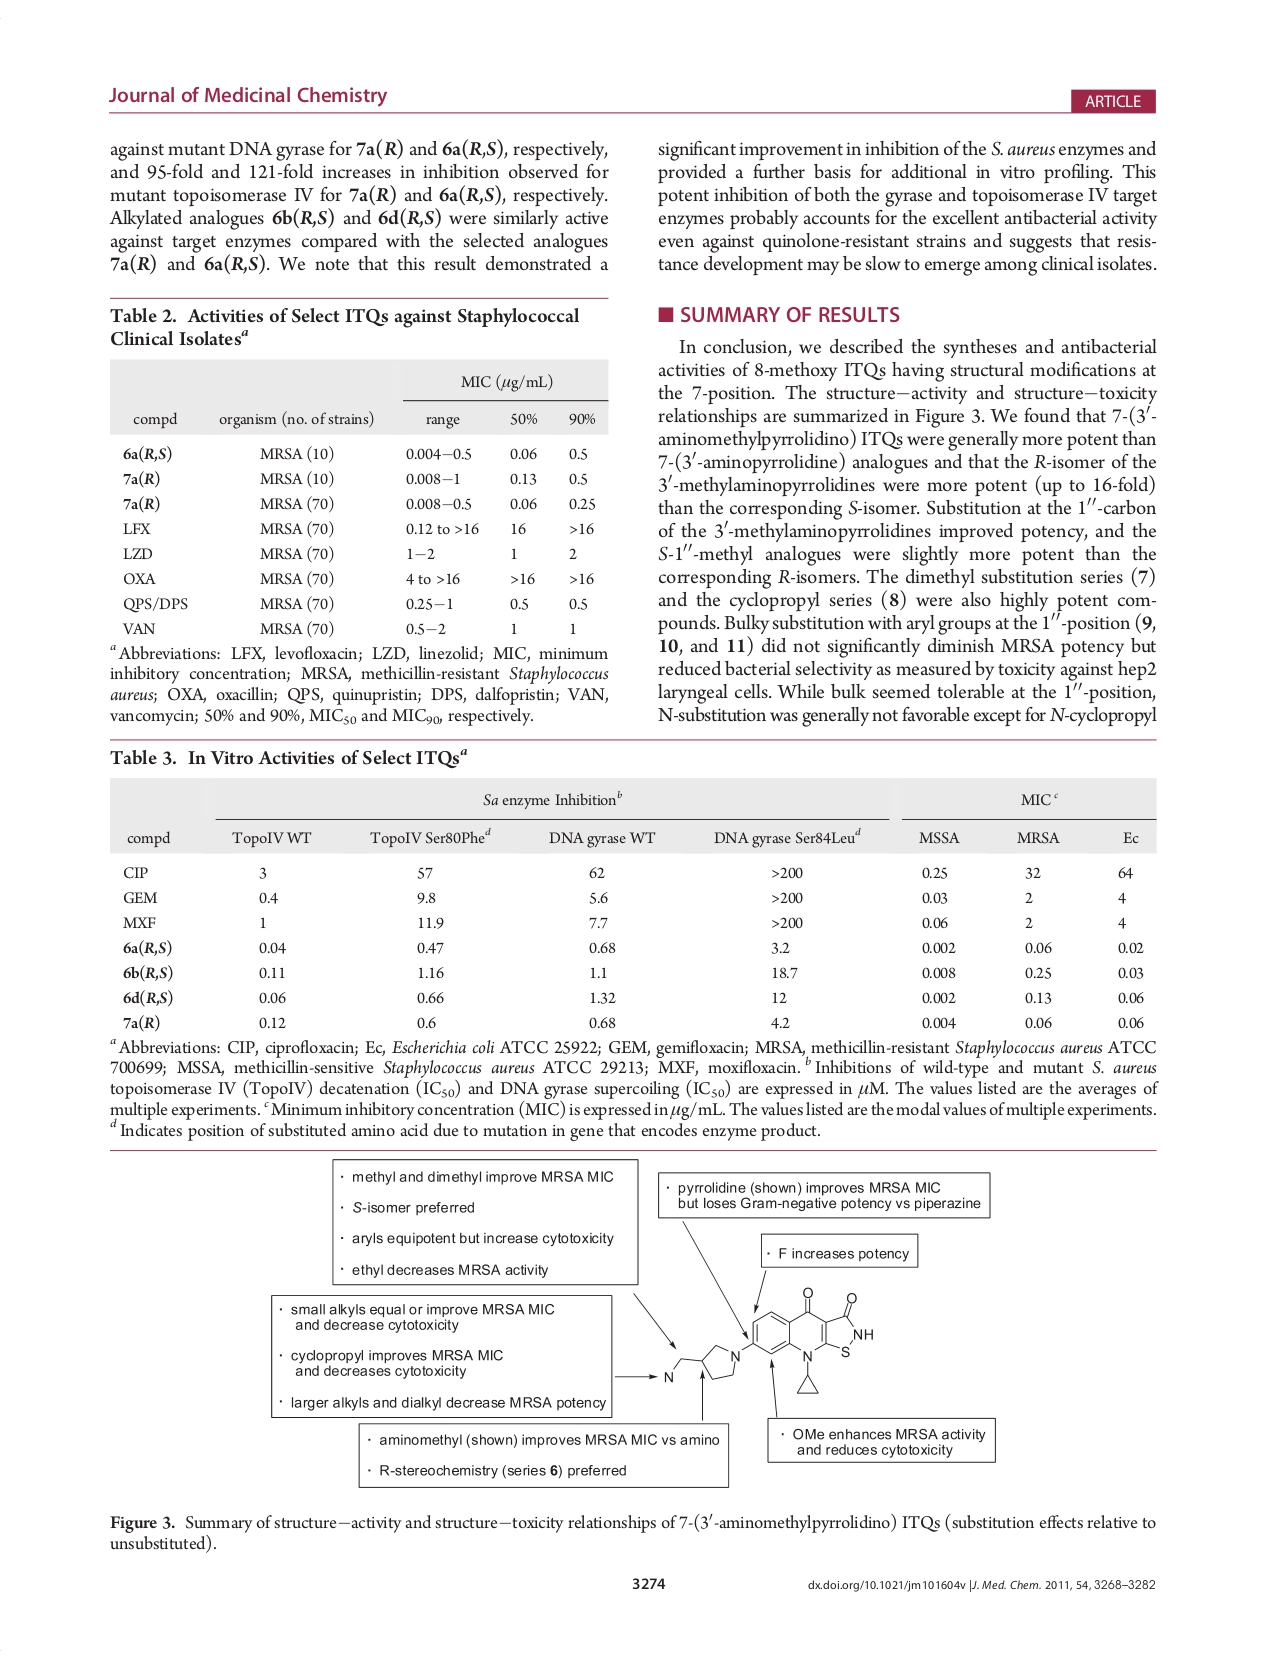exist_molecular: (662, 1285, 876, 1400)
